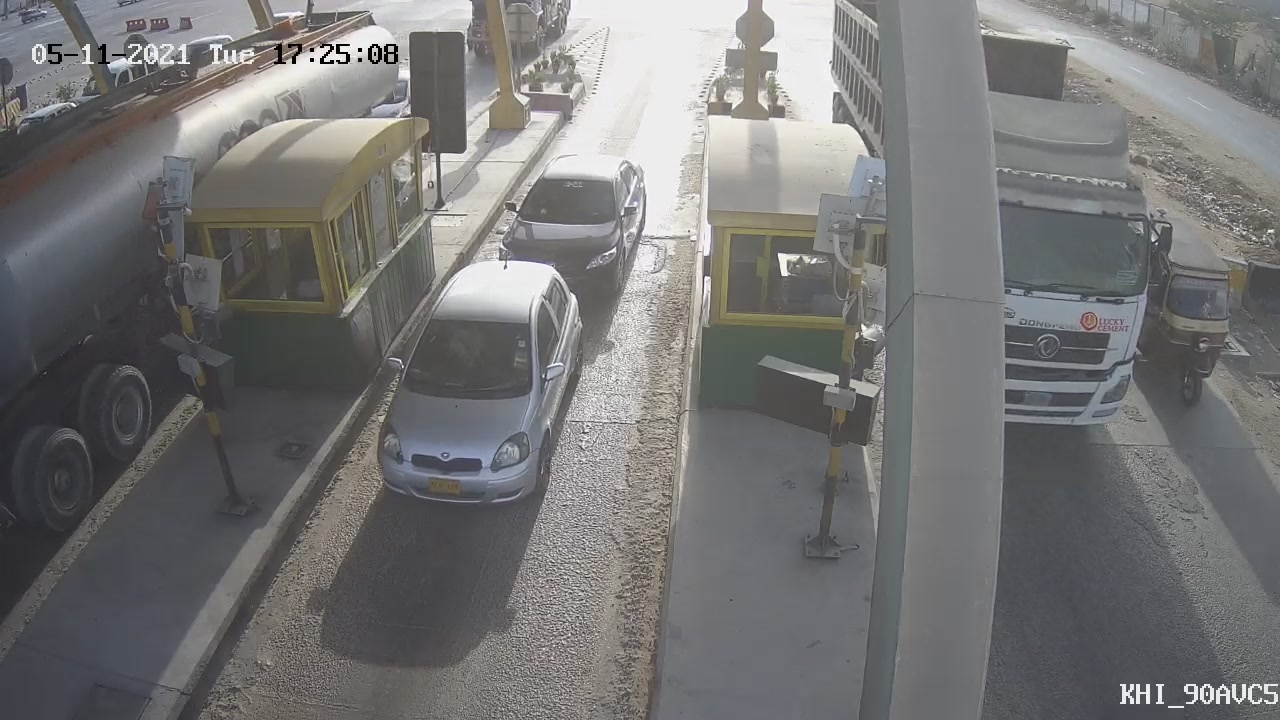F1: (356, 247, 614, 526), (479, 130, 663, 320)
